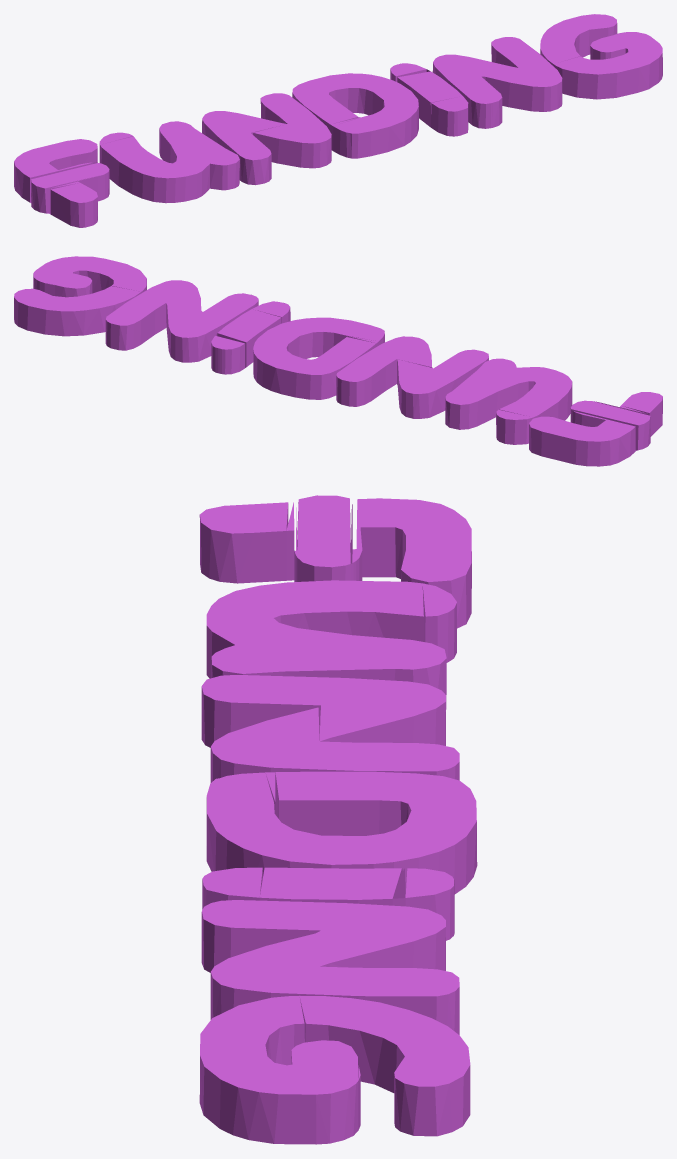
Rendered from Funding.fbx.
3 renders of one model, top to bottom at view 1: azimuth 30°, elevation 25°; view 2: azimuth 150°, elevation 25°; view 3: azimuth 270°, elevation 25°, orthographic. The views are drawn at different scales.
Parts seen in each view (by area): view 1: Text; view 2: Text; view 3: Text.
Boxes of the visible parts, <box> form: Text: <box>14,14,662,227</box>; Text: <box>14,256,662,466</box>; Text: <box>199,495,477,1144</box>.
Size of the model in its own units: 347 by 13.47 by 67.85.
